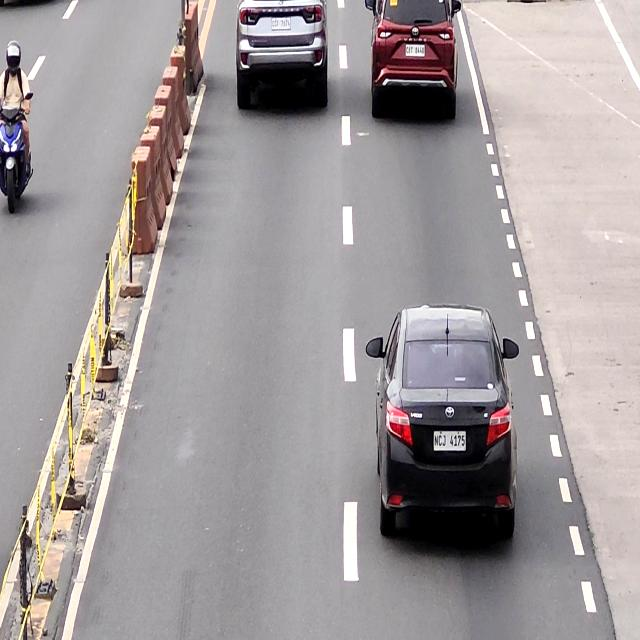Car: (367, 305, 519, 544), (365, 0, 462, 122), (236, 0, 330, 110)
License-Plate: (433, 430, 466, 450), (405, 44, 426, 58), (271, 18, 292, 30)
